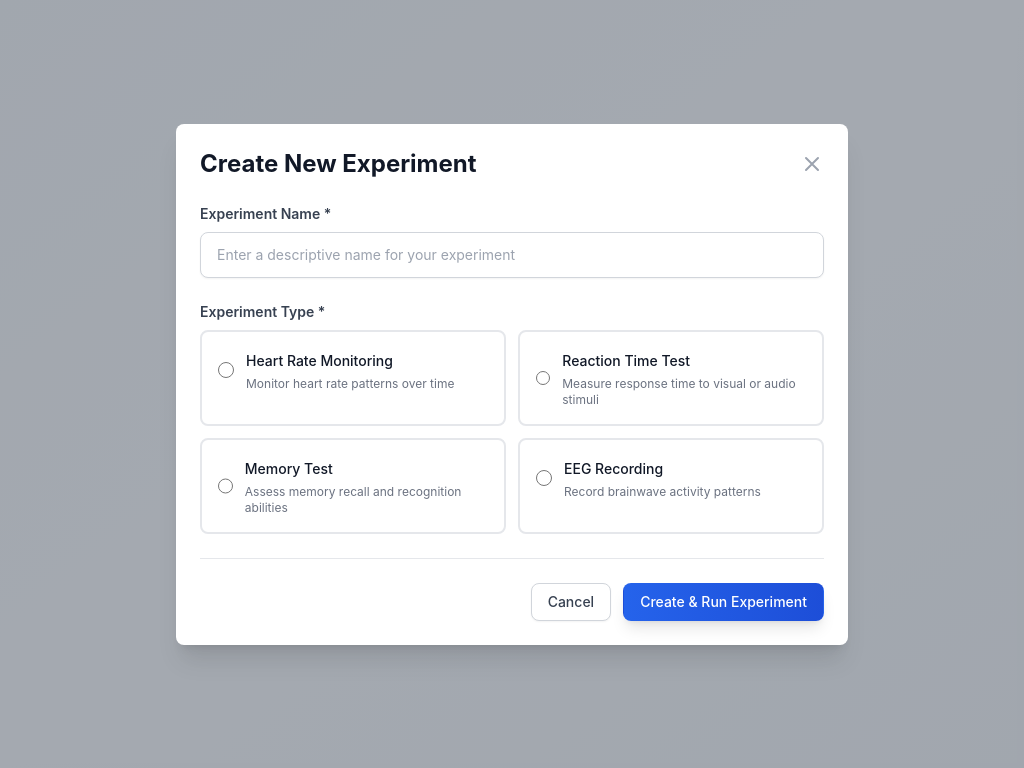
it: ExperimentForm › shows validation errors for empty required fields
This screenshot has width=1024, height=768.
Click the button "Create & Run Experiment" at (724, 602), box [623,582,824,620]
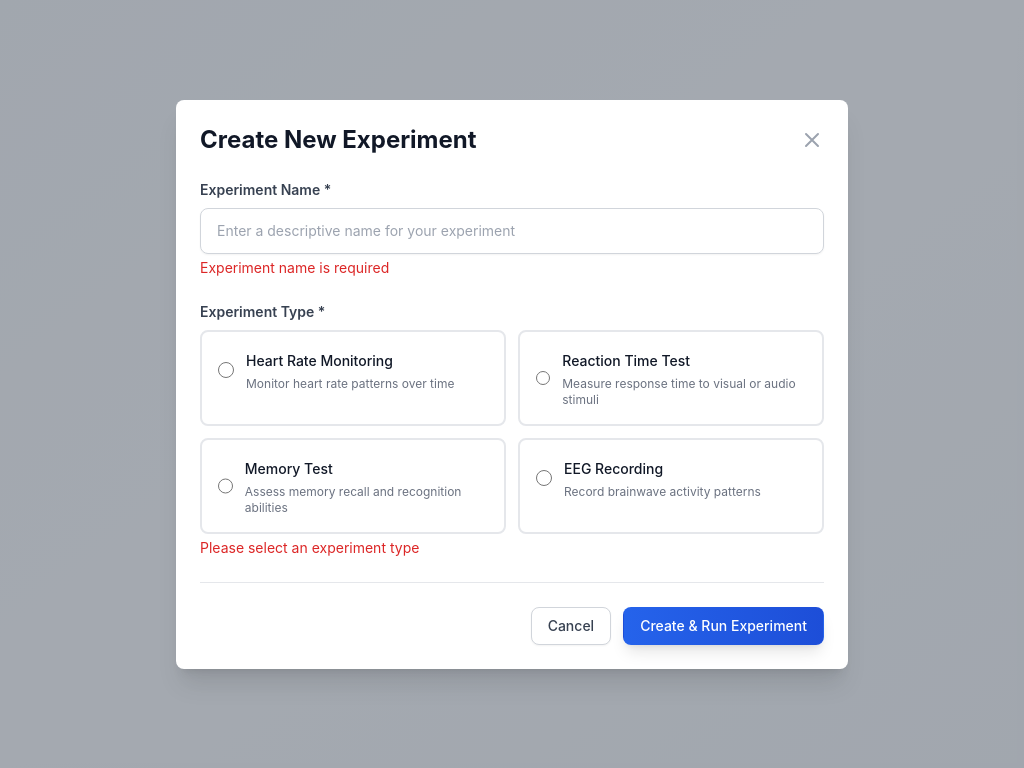
Expected: the text "Experiment name is required" is shown, [200,258,389,276]
Expected: the text "Please select an experiment type" is shown, [200,538,419,556]
